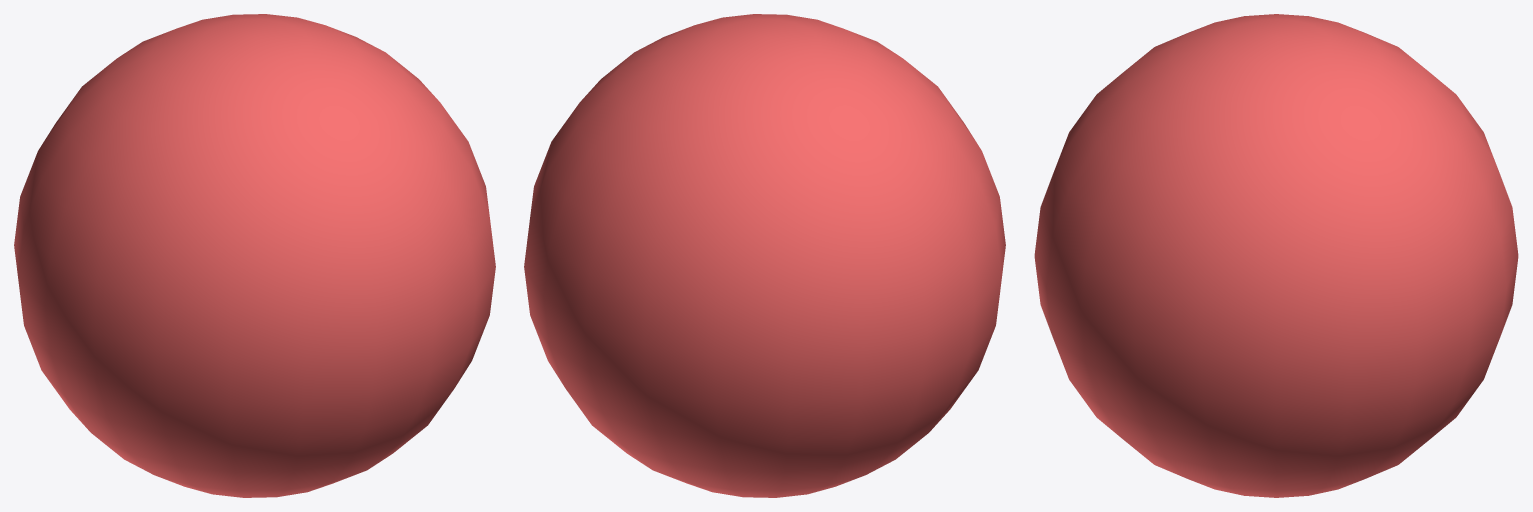
The model's file is balloon_red.glb.
3 renders of one model, left to right at view 1: azimuth 30°, elevation 25°; view 2: azimuth 150°, elevation 25°; view 3: azimuth 270°, elevation 25°, orthographic.
Parts seen in each view (by area): view 1: primitive; view 2: primitive; view 3: primitive.
Boxes of the visible parts, left/top/right/bottom form: primitive: left=14, top=14, right=495, bottom=497; primitive: left=524, top=14, right=1005, bottom=497; primitive: left=1034, top=14, right=1518, bottom=497.
Bounding box in the file's own units: 0.24 × 0.24 × 0.24.
